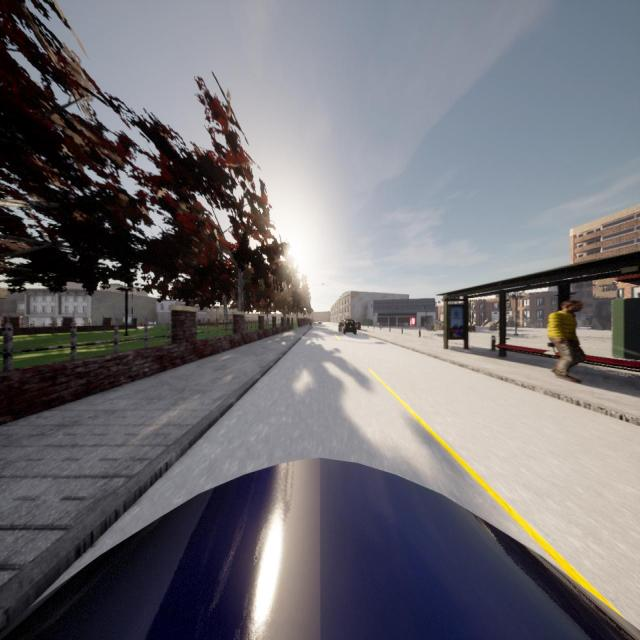Pedestrian: (548, 300, 584, 382)
Vehicle: (0, 458, 637, 639), (338, 319, 358, 336), (318, 320, 322, 325)
